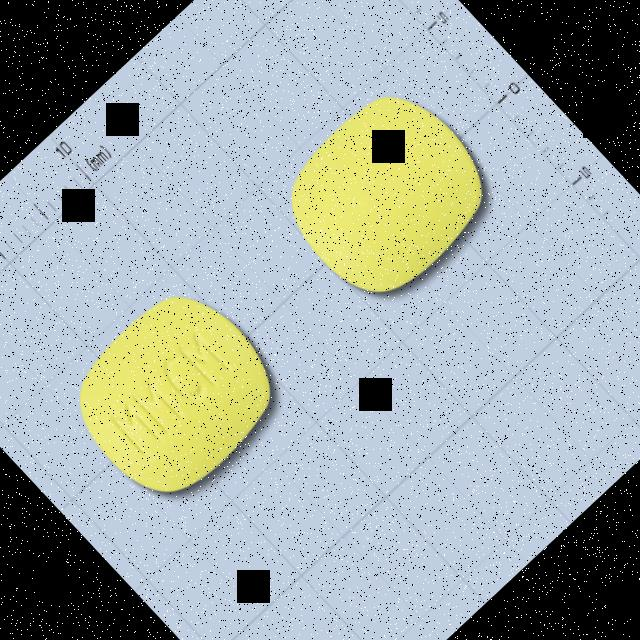Claricin - 500mg: (46, 264, 305, 522)
